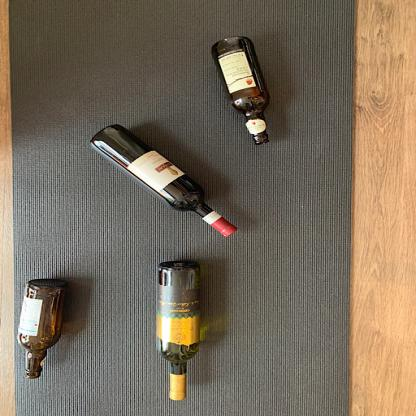trash: (90, 122, 238, 236), (151, 259, 203, 402), (209, 37, 274, 150), (15, 276, 72, 380)
